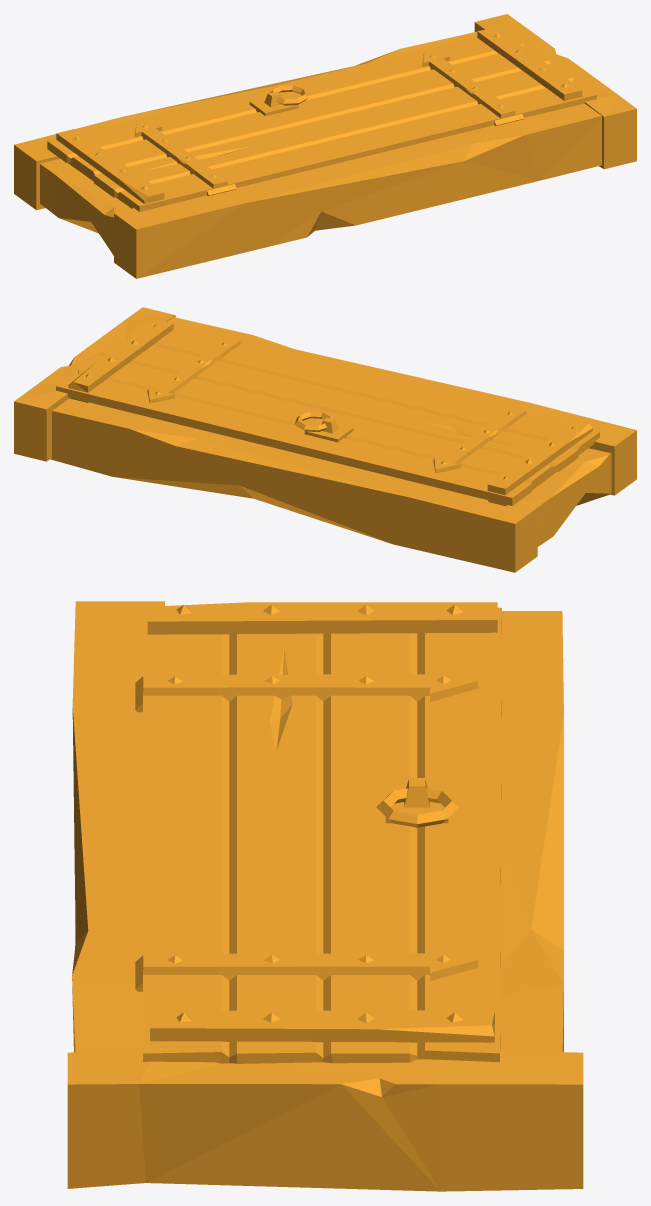
File: SM_Door_Wood_HatchDoor_Fantasy.fbx
3 views of the same model, one above another, from view 1: azimuth 30°, elevation 25°; view 2: azimuth 150°, elevation 25°; view 3: azimuth 270°, elevation 25° (orthographic). The views are drawn at different scales.
Visible parts, largest first — view 1: SM_Door_Wood_HatchDoor_Fantasy_Frame, SM_Door_Wood_HatchDoor_Fantasy_Door; view 2: SM_Door_Wood_HatchDoor_Fantasy_Frame, SM_Door_Wood_HatchDoor_Fantasy_Door; view 3: SM_Door_Wood_HatchDoor_Fantasy_Door, SM_Door_Wood_HatchDoor_Fantasy_Frame.
Boxes of the visible parts, x1,y1,x2,y2 form: SM_Door_Wood_HatchDoor_Fantasy_Frame: (14, 14, 636, 278); SM_Door_Wood_HatchDoor_Fantasy_Door: (47, 28, 596, 211); SM_Door_Wood_HatchDoor_Fantasy_Frame: (14, 307, 636, 572); SM_Door_Wood_HatchDoor_Fantasy_Door: (56, 319, 599, 506); SM_Door_Wood_HatchDoor_Fantasy_Door: (135, 602, 501, 1063); SM_Door_Wood_HatchDoor_Fantasy_Frame: (67, 601, 583, 1191).
Size of the model in its own units: 3.21 by 0.455 by 1.44.
